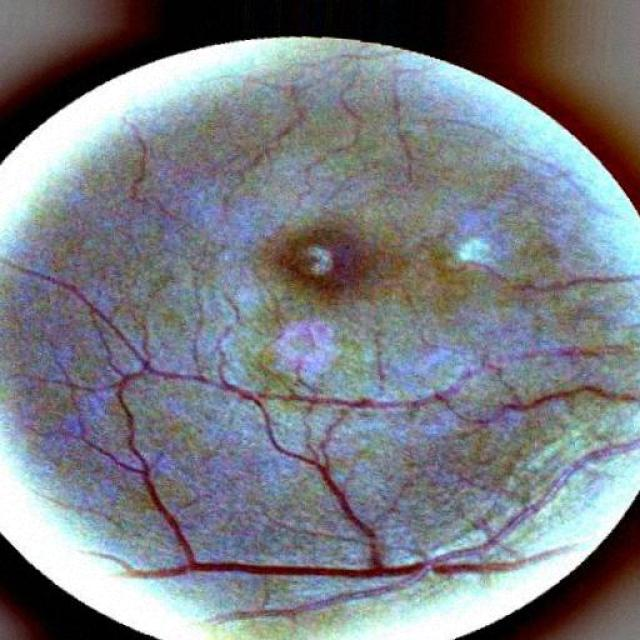Macula: (265, 224, 365, 299)
Nerves: (20, 268, 465, 546), (85, 366, 528, 576), (130, 551, 538, 578), (494, 384, 639, 418)
